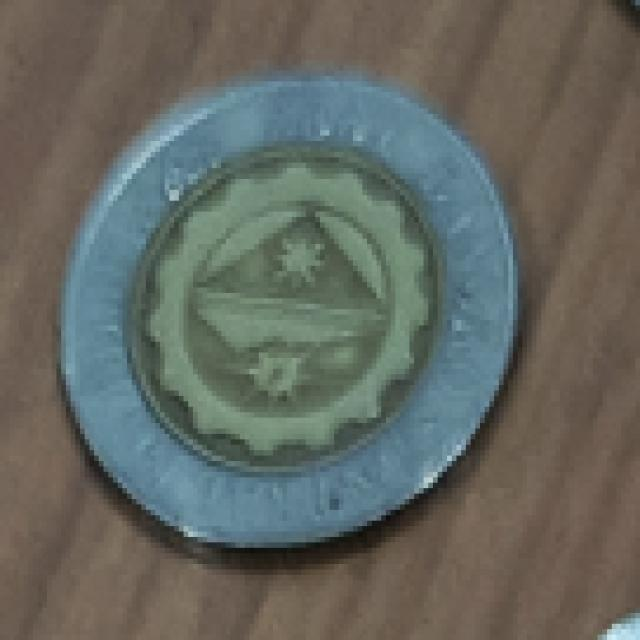10_peso: (61, 76, 513, 542)
